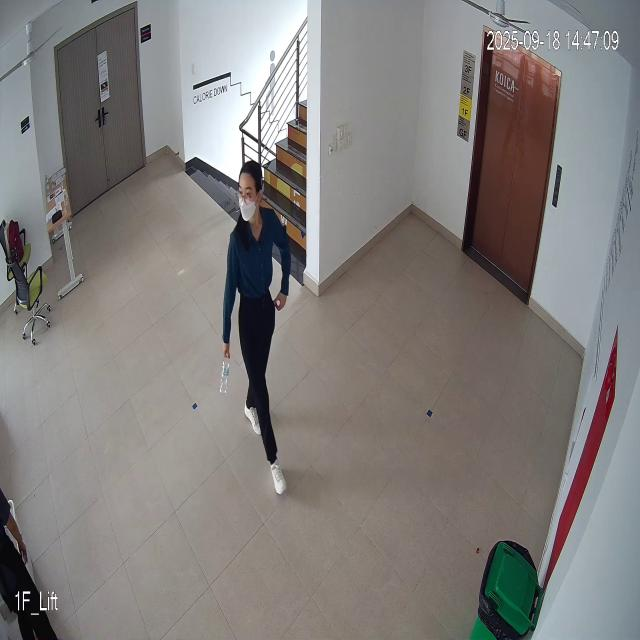face: (238, 157, 265, 230)
